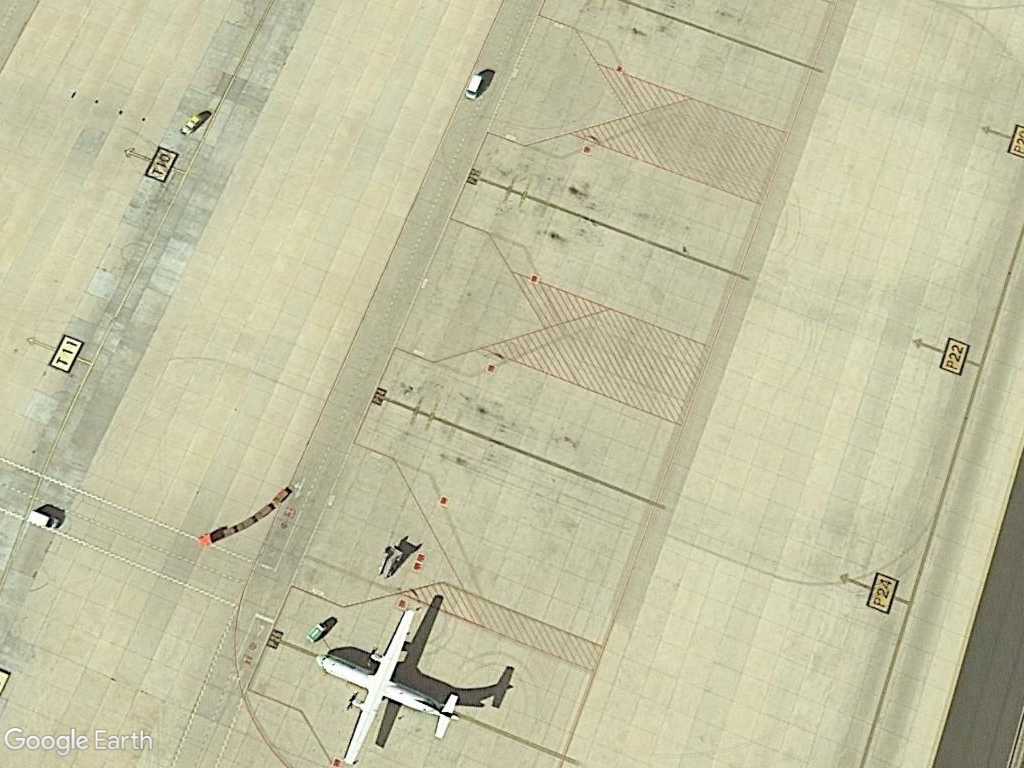propeller: (309, 596, 468, 768)
stairtruck: (373, 540, 409, 584)
